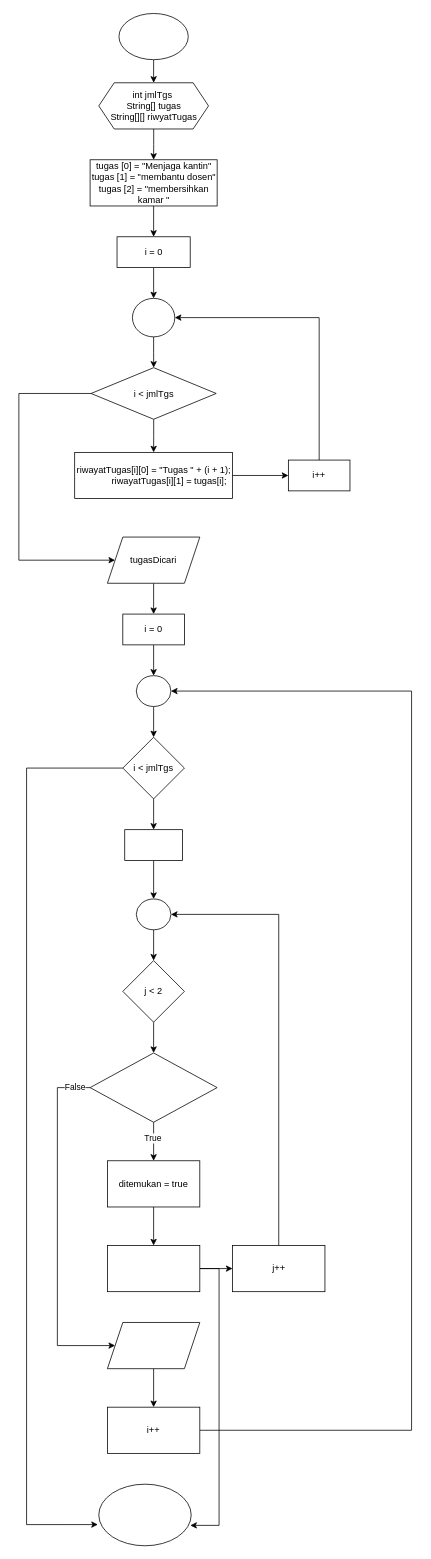
Some shapes in this 431 by 1559 pixel diagram are drawn without their labels. The shapes that lost their labels are listed below. From the top down, each one's box as (x1, y1, x2, y2) in pixels, then its label:
(118, 13, 188, 60): start
(124, 829, 182, 860): j = 0
(89, 1052, 217, 1122): riwayatTugas[i][j] = tugasDicari
(107, 1245, 200, 1292): break
(107, 1322, 200, 1369): "Tugas tidak ditemukan"
(98, 1483, 191, 1546): End
